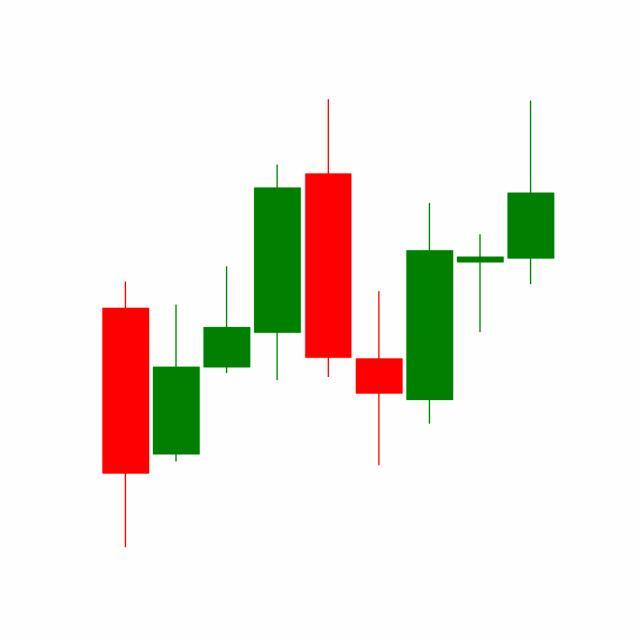Hikkake Pattern: (302, 99, 555, 471)
